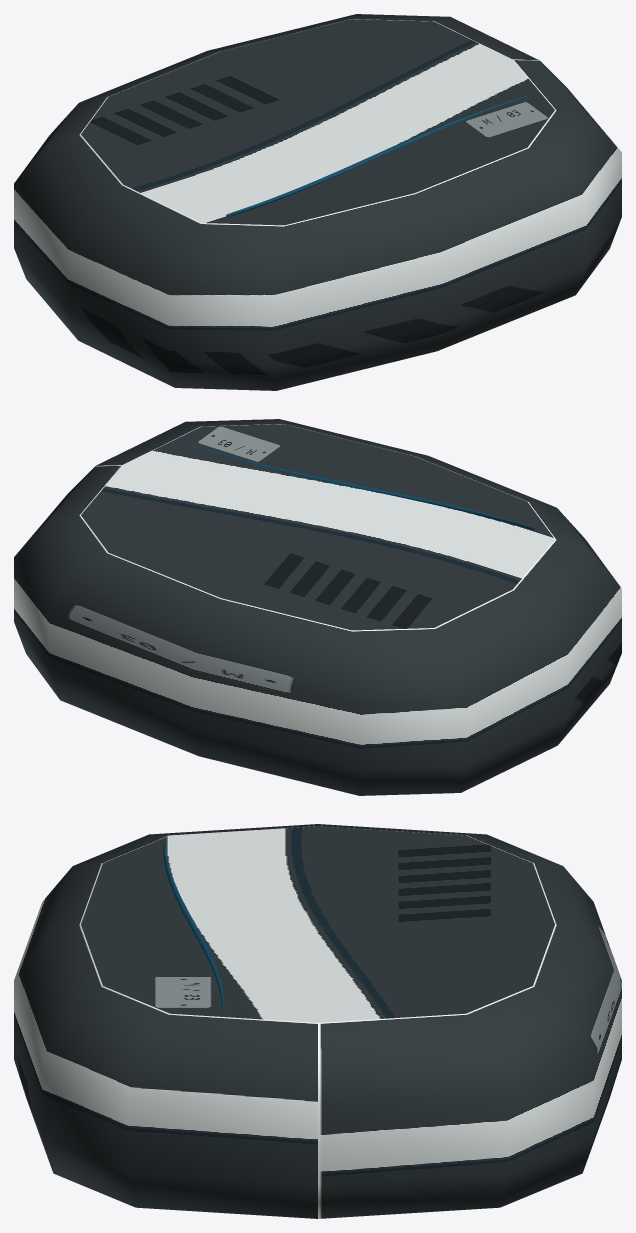
File: MotorCowl_03_N_水線・藍白.glb
3 renders of one model, top to bottom at view 1: azimuth 30°, elevation 25°; view 2: azimuth 150°, elevation 25°; view 3: azimuth 270°, elevation 25°, orthographic. The views are drawn at different scales.
Parts seen in each view (by area): view 1: MotorCowl_03_N; view 2: MotorCowl_03_N; view 3: MotorCowl_03_N.
Boxes of the visible parts, x1,y1,x2,y2 form: MotorCowl_03_N: (14,14,621,390); MotorCowl_03_N: (14,419,621,795); MotorCowl_03_N: (14,824,621,1218).
Bounding box in the file's own units: 0.332 × 0.1188 × 0.286.
1 material, 1 textured.
